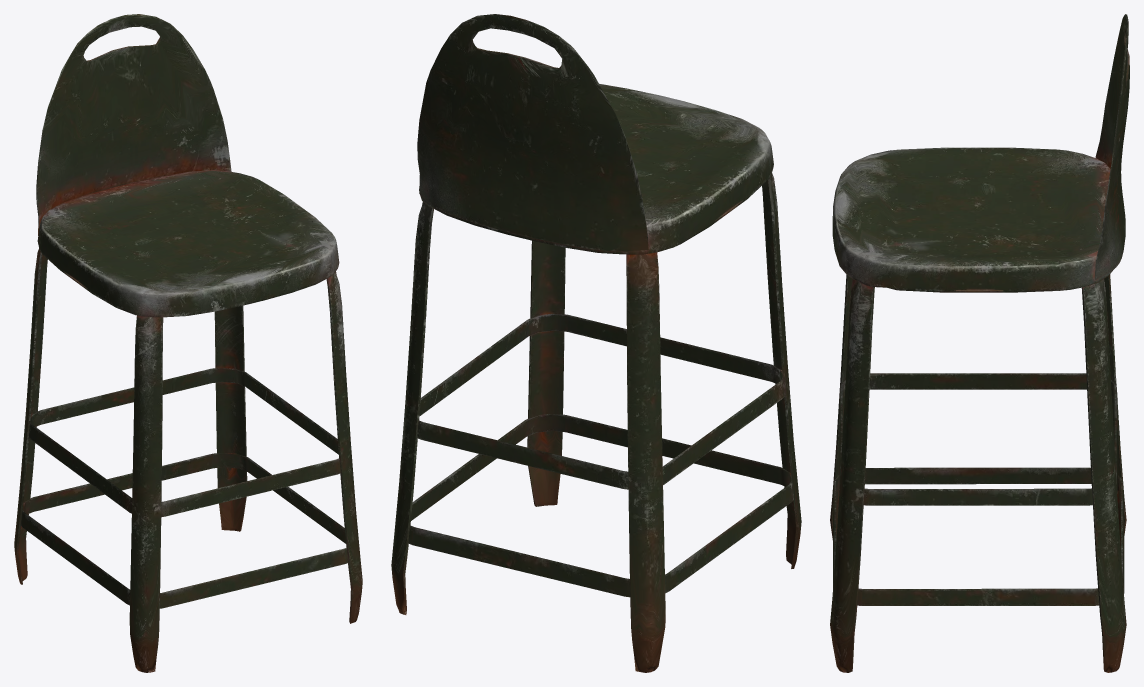
Rendered from metal-stool-03.glb.
3 views of the same model, side by side, from view 1: azimuth 30°, elevation 25°; view 2: azimuth 150°, elevation 25°; view 3: azimuth 270°, elevation 25° (orthographic). The views are drawn at different scales.
Visible parts, largest first — view 1: metal_stool_03; view 2: metal_stool_03; view 3: metal_stool_03.
Boxes of the visible parts, x1,y1,x2,y2 form: metal_stool_03: [14, 14, 362, 672]; metal_stool_03: [391, 14, 801, 672]; metal_stool_03: [830, 14, 1129, 672].
Bounding box in the file's own units: 0.4606 × 1.02 × 0.4706.
Materials: 1 (1 with a texture image).
